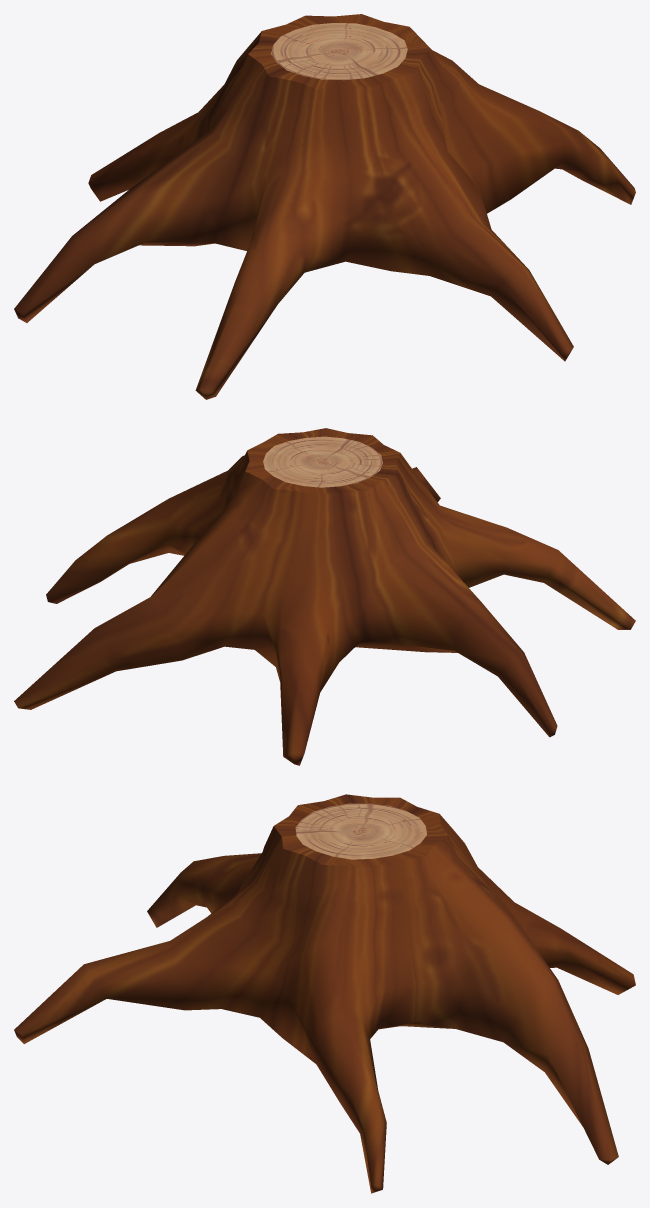
Rendered from obj_harvests_trees_pine02_p00.fbx.
The picture shows the model from 3 angles, top to bottom: view 1: azimuth 30°, elevation 25°; view 2: azimuth 150°, elevation 25°; view 3: azimuth 270°, elevation 25°; orthographic projection. The views are drawn at different scales.
Parts seen in each view (by area): view 1: chunk00; view 2: chunk00; view 3: chunk00.
Part boxes in pixels (box(x1,y1,x2,y2)): chunk00: box(14, 14, 635, 399); chunk00: box(14, 428, 635, 765); chunk00: box(14, 794, 635, 1193).
Bounding box in the file's own units: 18.89 × 7.2 × 17.55.
